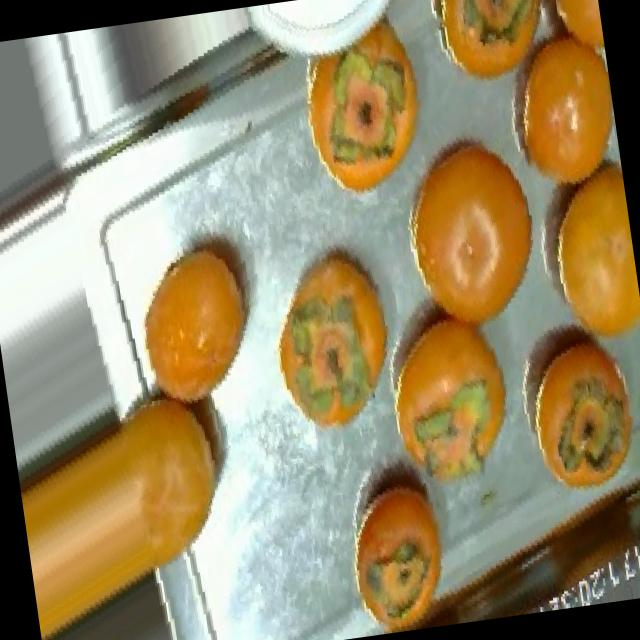Fruit: (377, 118, 551, 360), (117, 205, 294, 430), (278, 0, 456, 217), (248, 219, 408, 459), (507, 308, 640, 516), (422, 0, 566, 108)
